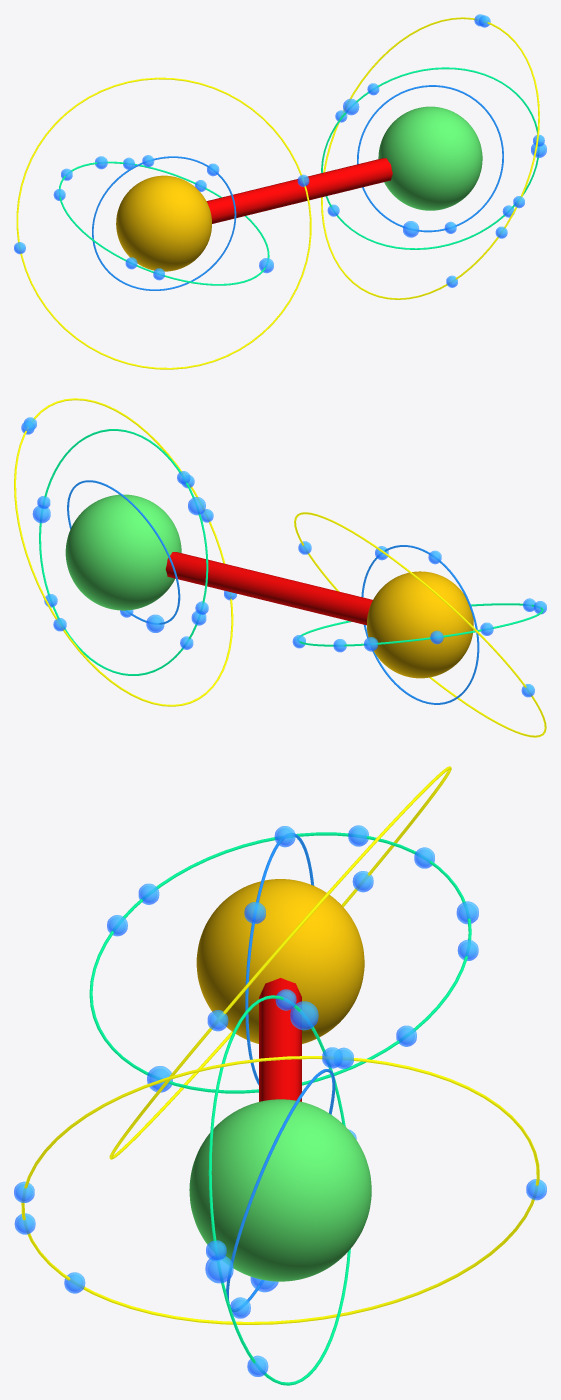
File: MgS.glb
3 renders of one model, top to bottom at view 1: azimuth 30°, elevation 25°; view 2: azimuth 150°, elevation 25°; view 3: azimuth 270°, elevation 25°, orthographic. The views are drawn at different scales.
Visible parts, largest first — view 1: S, Mg, object 65, object 24, object 52, object 35, object 7, object 30, object 2; view 2: S, Mg, object 65, object 52, object 35, object 24, object 2, object 7, object 30; view 3: S, Mg, object 65, object 52, object 24, object 7, object 35, object 30, object 2.
Part boxes in pixels (left/top/right/bottom): S: left=378, top=106, right=482, bottom=210; Mg: left=116, top=175, right=211, bottom=271; object 65: left=206, top=158, right=392, bottom=223; object 24: left=16, top=77, right=311, bottom=369; object 52: left=321, top=17, right=539, bottom=299; object 35: left=321, top=67, right=538, bottom=249; object 7: left=59, top=161, right=269, bottom=285; object 30: left=357, top=85, right=503, bottom=232; object 2: left=92, top=156, right=236, bottom=290; S: left=65, top=494, right=181, bottom=610; Mg: left=367, top=571, right=473, bottom=678; object 65: left=165, top=552, right=372, bottom=625; object 52: left=14, top=398, right=233, bottom=706; object 35: left=39, top=429, right=208, bottom=675; object 24: left=294, top=512, right=546, bottom=737; object 2: left=361, top=545, right=479, bottom=704; object 7: left=299, top=603, right=543, bottom=646; object 30: left=67, top=480, right=180, bottom=624; S: left=189, top=1099, right=371, bottom=1281; Mg: left=196, top=879, right=364, bottom=1043; object 65: left=259, top=978, right=301, bottom=1101; object 52: left=21, top=1056, right=539, bottom=1324; object 24: left=109, top=766, right=451, bottom=1159; object 7: left=89, top=832, right=471, bottom=1093; object 35: left=208, top=995, right=350, bottom=1385; object 30: left=226, top=1069, right=335, bottom=1311; object 2: left=245, top=833, right=314, bottom=1085.
Bounding box in the file's own units: 9.2 × 4.06 × 4.95.
